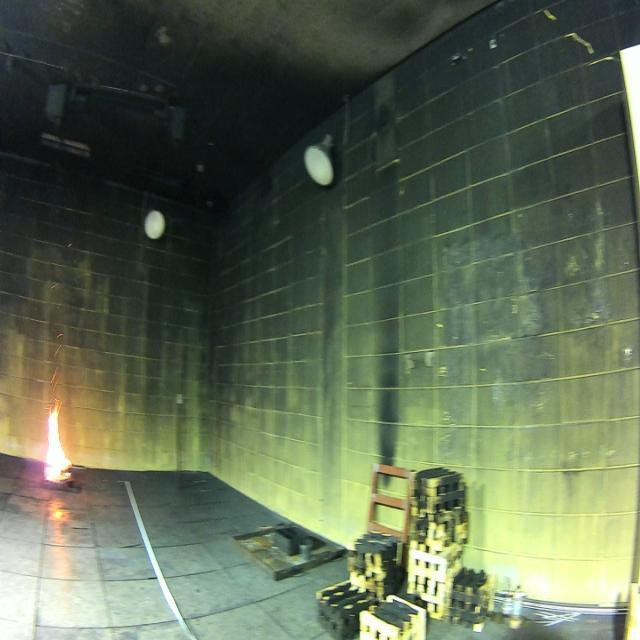Fire: (45, 401, 72, 482)
